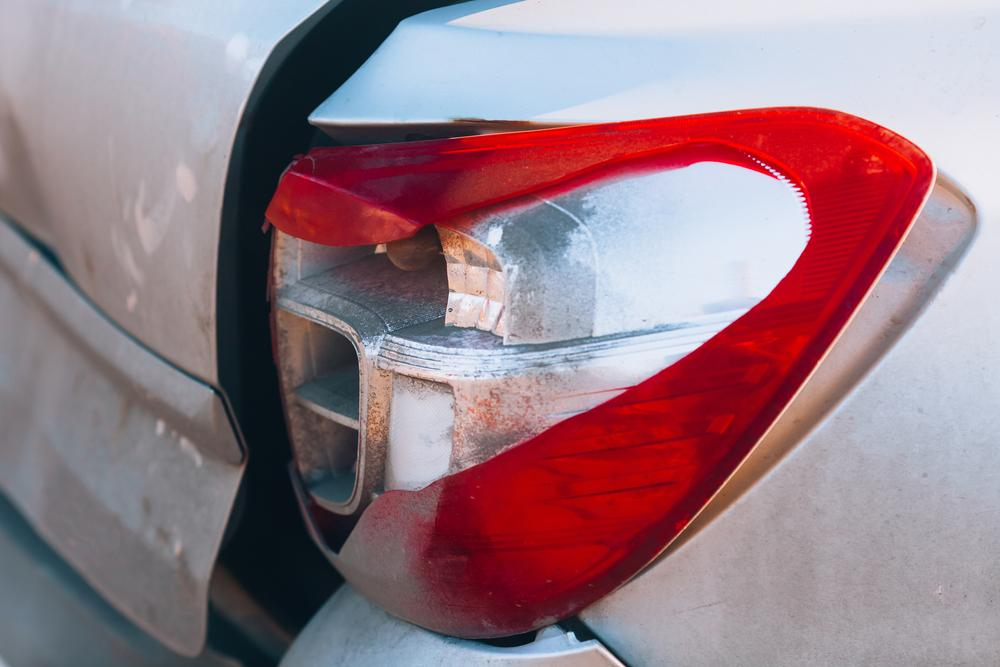lamp broken: (263, 105, 936, 639)
